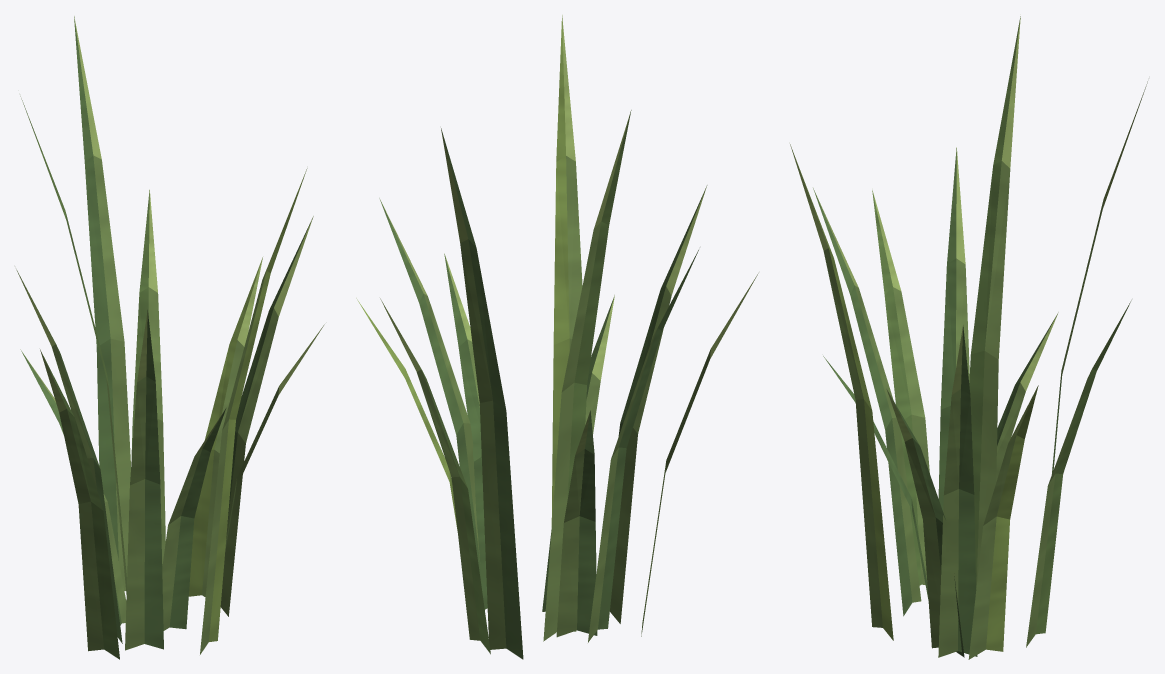
File: grass_clump_tall_03.fbx
3 views of the same model, side by side, from view 1: azimuth 30°, elevation 25°; view 2: azimuth 150°, elevation 25°; view 3: azimuth 270°, elevation 25° (orthographic). The views are drawn at different scales.
Parts seen in each view (by area): view 1: grass_clump_tall_03; view 2: grass_clump_tall_03; view 3: grass_clump_tall_03.
Boxes of the visible parts, <box> form: grass_clump_tall_03: <box>16,16,324,659</box>; grass_clump_tall_03: <box>356,15,758,659</box>; grass_clump_tall_03: <box>790,16,1147,659</box>.
Bounding box in the file's own units: 77.76 × 126 × 74.
Materials: 1 (1 with a texture image).
